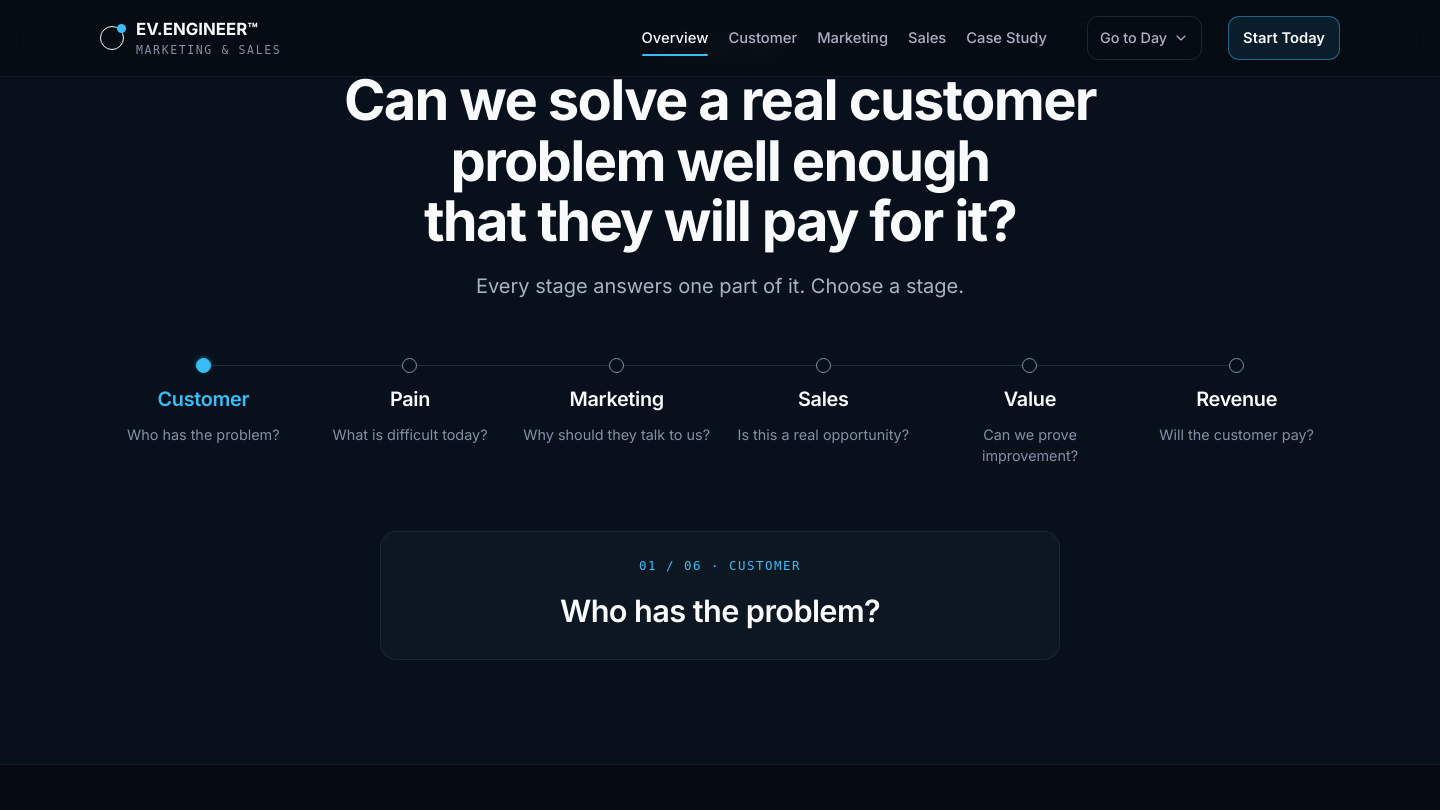
Scenario: Marketing & Sales overview: short, simple, beginner first › asks one question and animates the way from customer to revenue, one stage at a time
(page scrolled)
Click the button "Sales Is this a real opportunity?": (823, 406) [720,358,927,454]
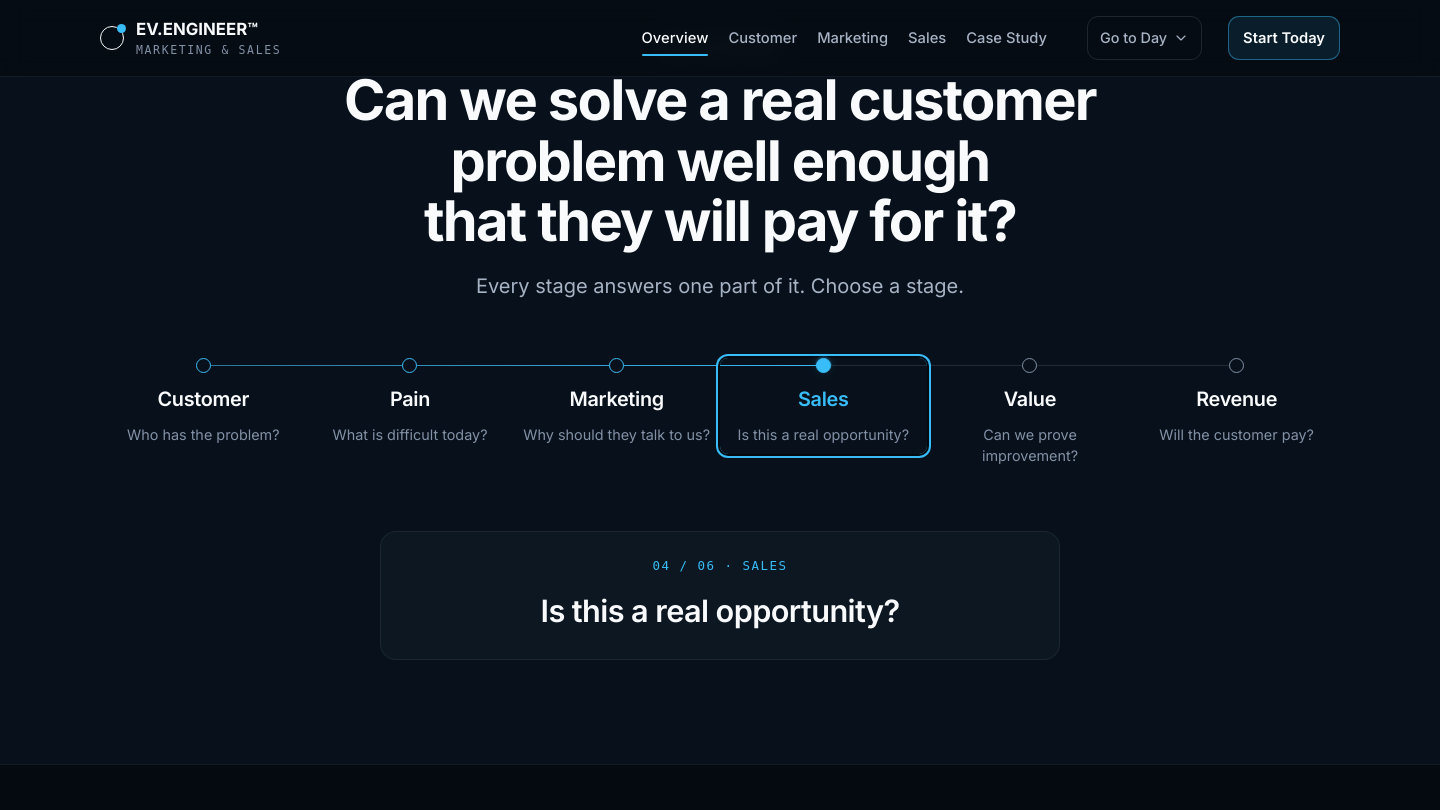
Check: the element with id "rv-flow-customer-to-revenue" shows "04 / 06 · Sales", box [380,531,1060,660]
Check: the element with id "rv-flow-customer-to-revenue" shows "Is this a real opportunity?", box [540,592,899,629]
